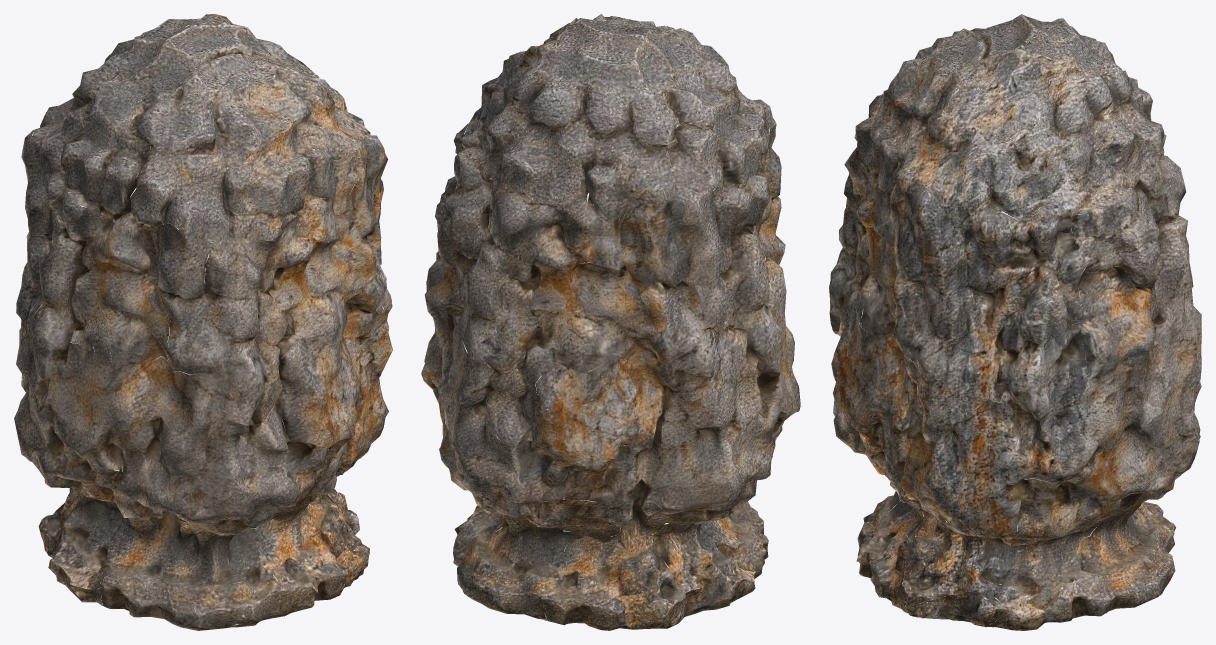
Rendered from sea-stack.glb.
The picture shows the model from 3 angles, left to right: view 1: azimuth 30°, elevation 25°; view 2: azimuth 150°, elevation 25°; view 3: azimuth 270°, elevation 25°; orthographic projection.
Parts seen in each view (by area): view 1: tripo_node_c00fa2ca-5327-4587-b1ff-383bf301f425; view 2: tripo_node_c00fa2ca-5327-4587-b1ff-383bf301f425; view 3: tripo_node_c00fa2ca-5327-4587-b1ff-383bf301f425.
Boxes of the visible parts, x1=… form: tripo_node_c00fa2ca-5327-4587-b1ff-383bf301f425: x1=14, y1=14, x2=392, y2=630; tripo_node_c00fa2ca-5327-4587-b1ff-383bf301f425: x1=421, y1=14, x2=800, y2=630; tripo_node_c00fa2ca-5327-4587-b1ff-383bf301f425: x1=829, y1=14, x2=1201, y2=630.
Size of the model in its own units: 0.6522 by 1 by 0.6301.
1 material, 1 textured.
